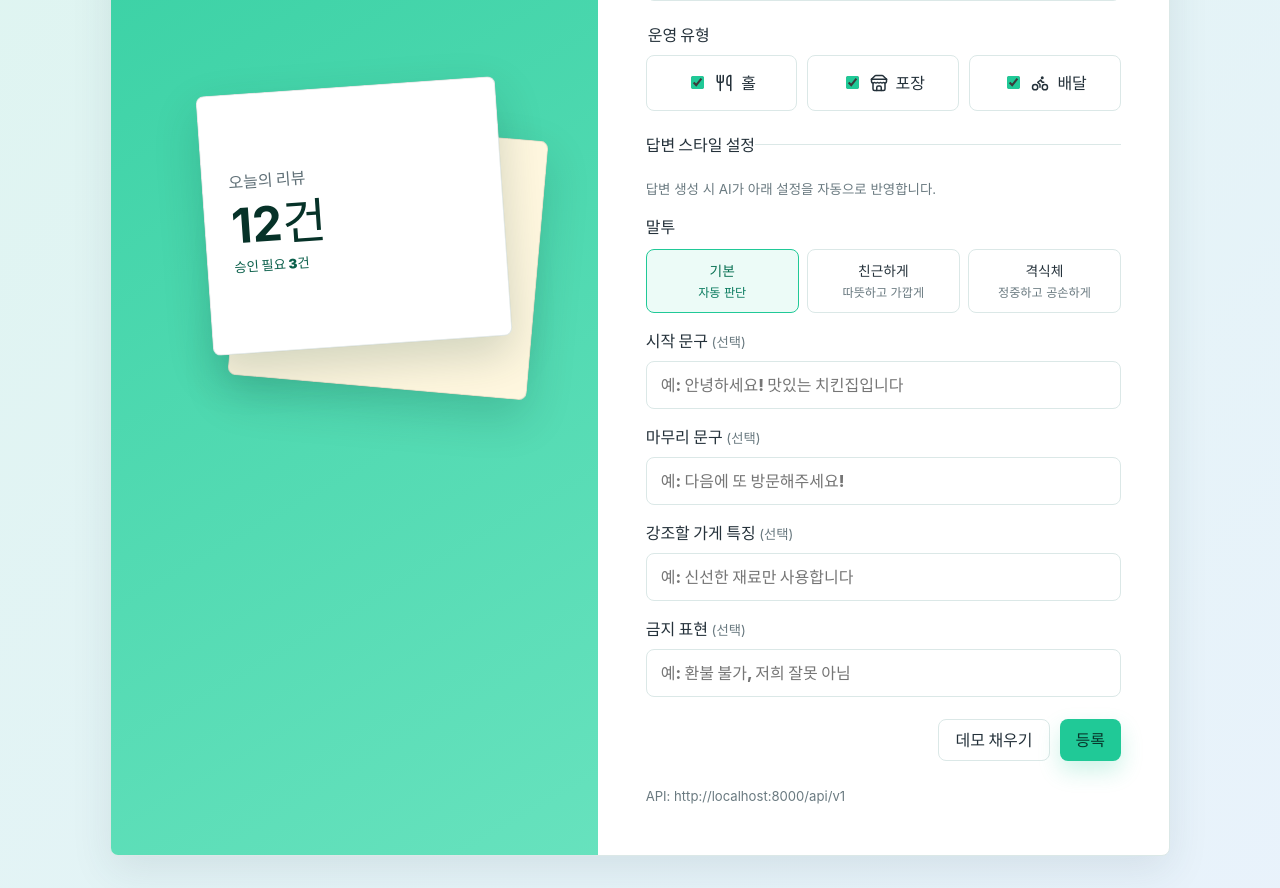
Test case: Review helper SPA › setup shows backend connection error when API is offline
The image size is (1280, 888).
(page scrolled)
Click the button "데모 채우기". click: (994, 740)
box: [938, 719, 1050, 761]
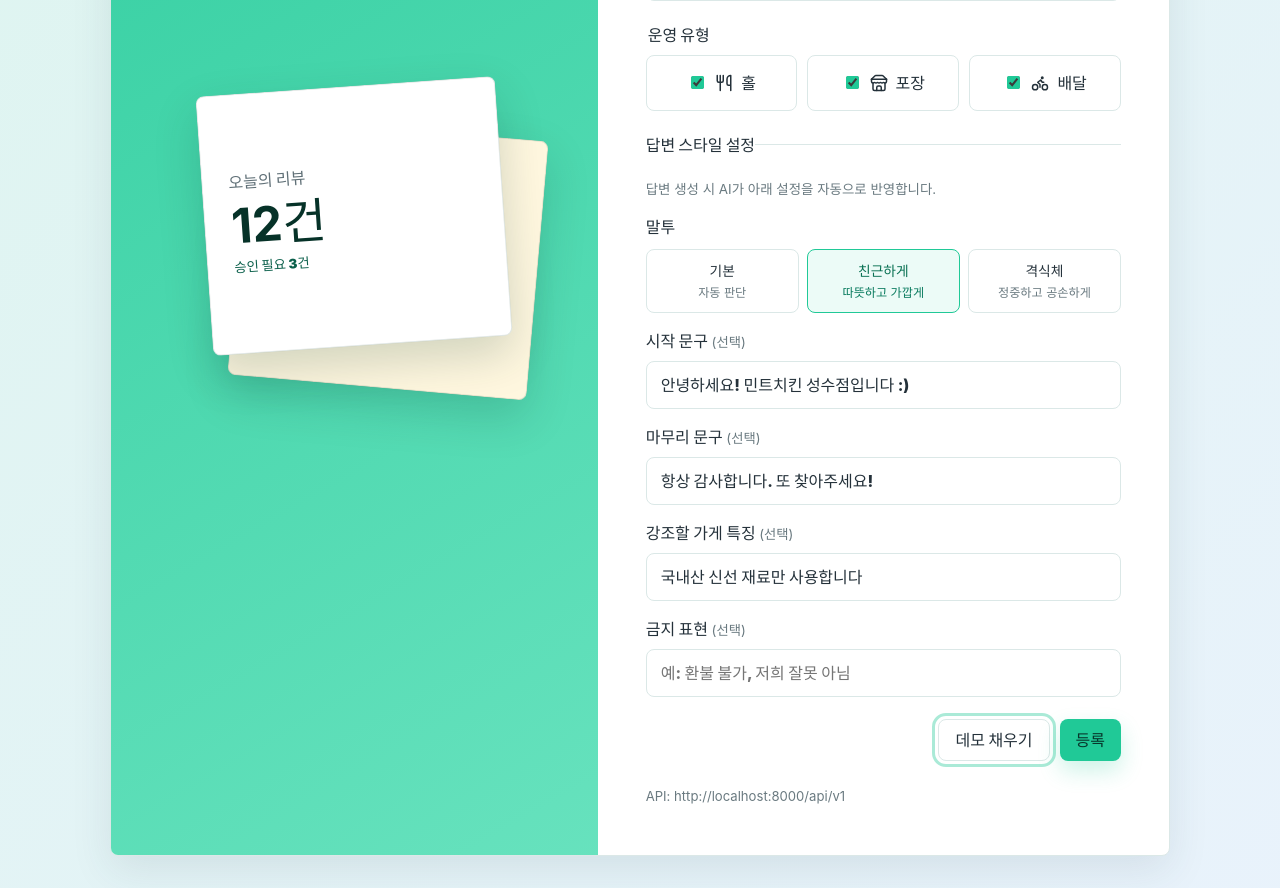
Click the button "등록". click: (1090, 740)
box: [1060, 719, 1121, 761]
(page scrolled)
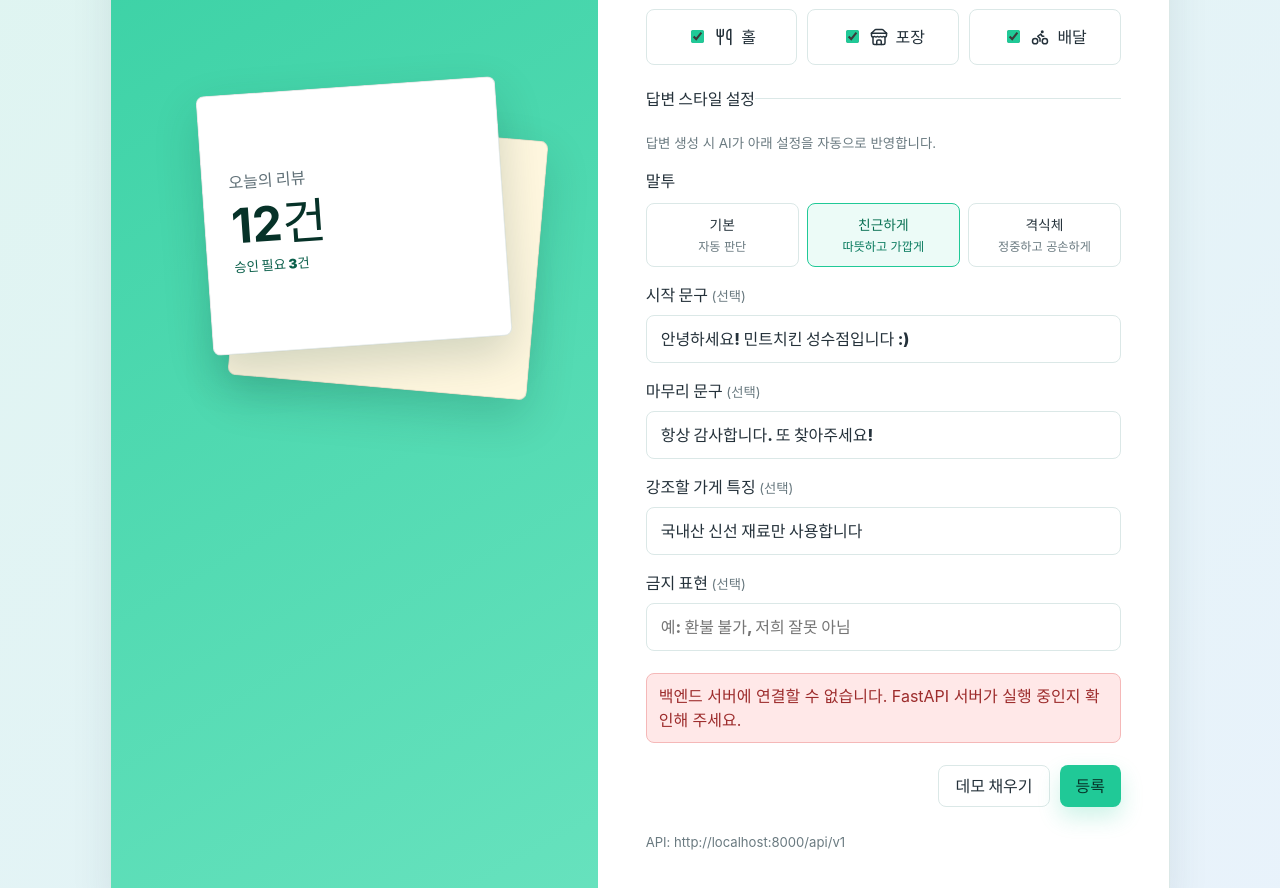
Result: the message shows "백엔드 서버에 연결할 수 없습니다" at [659, 686, 1100, 730]
